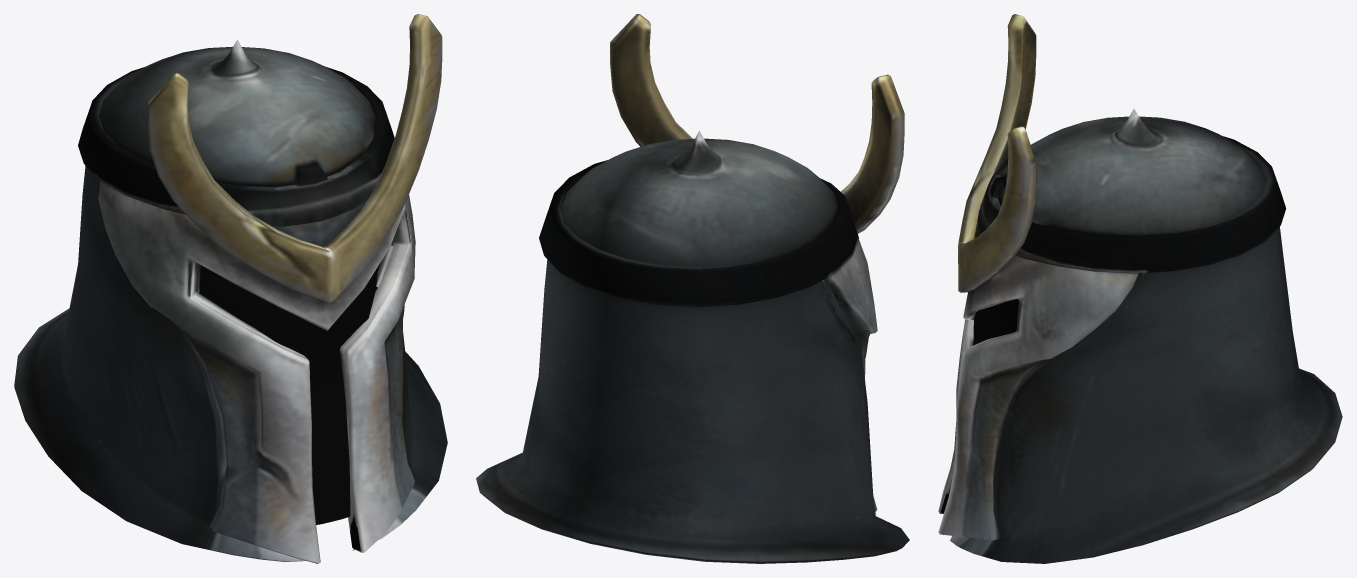
File: sm_dwarf_void_helmet.gltf
3 views of the same model, side by side, from view 1: azimuth 30°, elevation 25°; view 2: azimuth 150°, elevation 25°; view 3: azimuth 270°, elevation 25° (orthographic). The views are drawn at different scales.
Visible parts, largest first — view 1: sm_human_void_helmet; view 2: sm_human_void_helmet; view 3: sm_human_void_helmet.
Part boxes in pixels (x1,y1,x2,y2): sm_human_void_helmet: (14,14,447,563); sm_human_void_helmet: (476,14,909,563); sm_human_void_helmet: (938,14,1342,563).
Bounding box in the file's own units: 41.07 × 51.55 × 41.41.
1 material, 1 textured.
